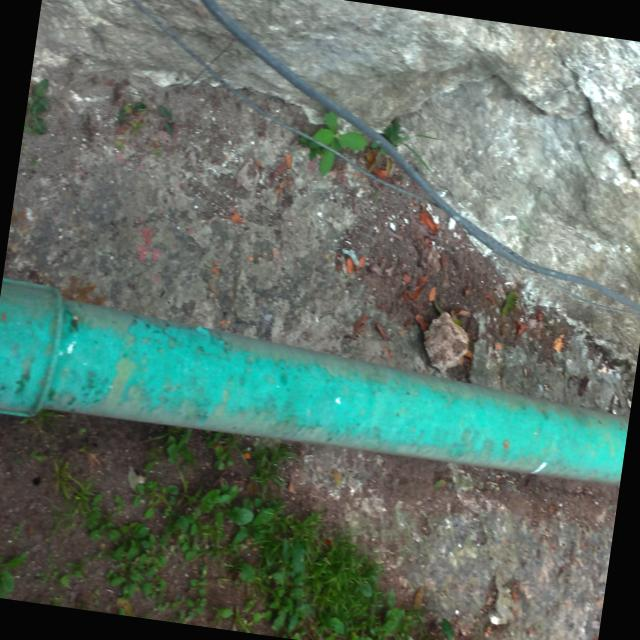gas: (0, 279, 636, 503)
